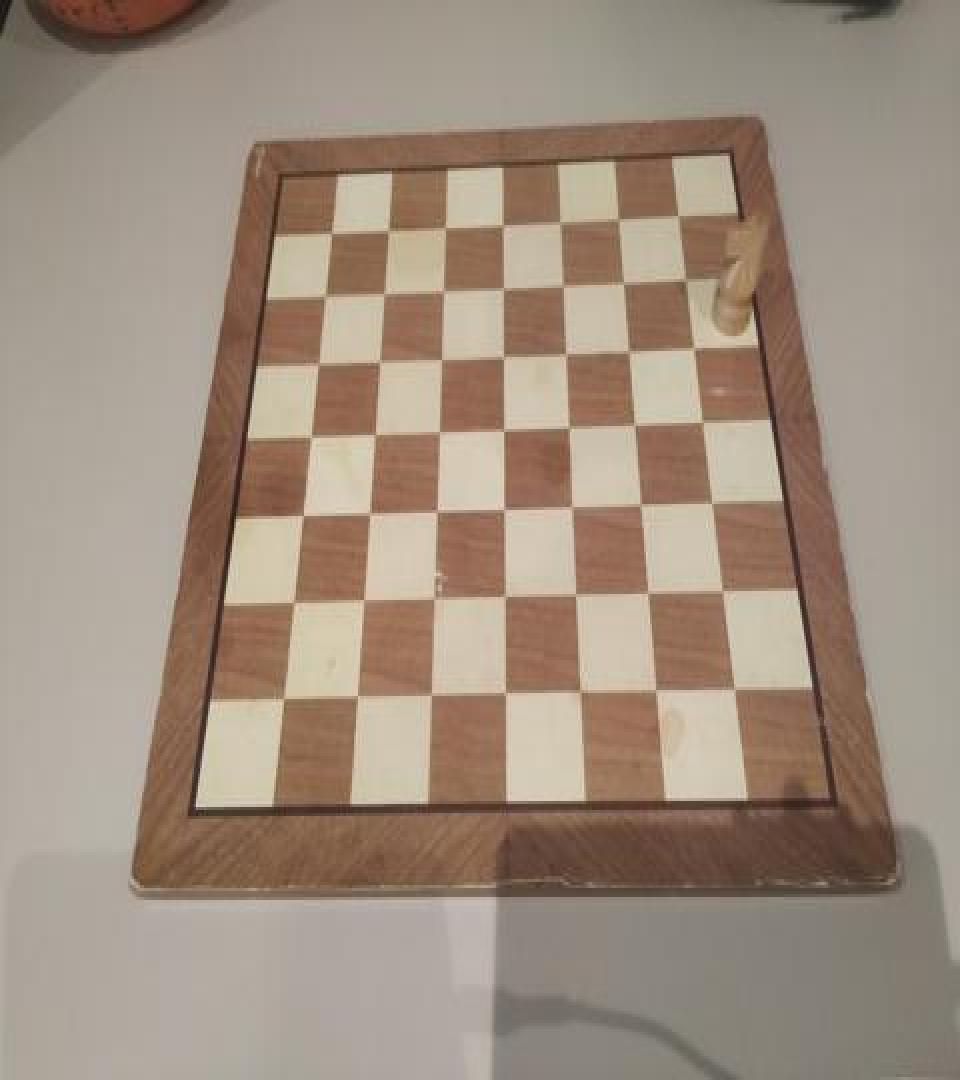xcorner: (427, 499, 447, 530), (346, 687, 366, 717), (421, 686, 441, 716), (497, 684, 517, 714), (650, 681, 670, 711), (727, 680, 747, 710), (280, 591, 300, 621), (352, 590, 372, 620), (424, 588, 444, 618), (569, 585, 589, 615), (642, 584, 662, 614), (289, 502, 309, 532), (358, 501, 378, 531), (496, 496, 516, 526), (565, 495, 585, 525), (635, 494, 655, 524), (705, 492, 725, 522), (298, 422, 318, 452), (363, 420, 383, 450), (429, 417, 449, 447), (495, 416, 515, 446), (562, 414, 582, 444), (628, 411, 648, 441), (695, 410, 715, 440), (305, 346, 325, 376), (368, 345, 388, 375), (431, 344, 451, 374), (495, 340, 515, 370), (558, 339, 578, 369), (622, 336, 642, 366), (687, 334, 707, 364), (312, 278, 332, 308), (373, 276, 393, 306), (433, 274, 453, 304), (494, 272, 514, 302), (555, 270, 575, 300), (617, 267, 637, 297), (678, 266, 698, 296), (319, 214, 339, 244), (377, 212, 397, 242), (435, 210, 455, 240), (494, 208, 514, 238), (553, 206, 573, 236), (612, 204, 632, 234), (671, 201, 691, 231), (271, 689, 291, 718), (573, 683, 593, 712), (496, 587, 516, 616), (715, 581, 735, 610)
